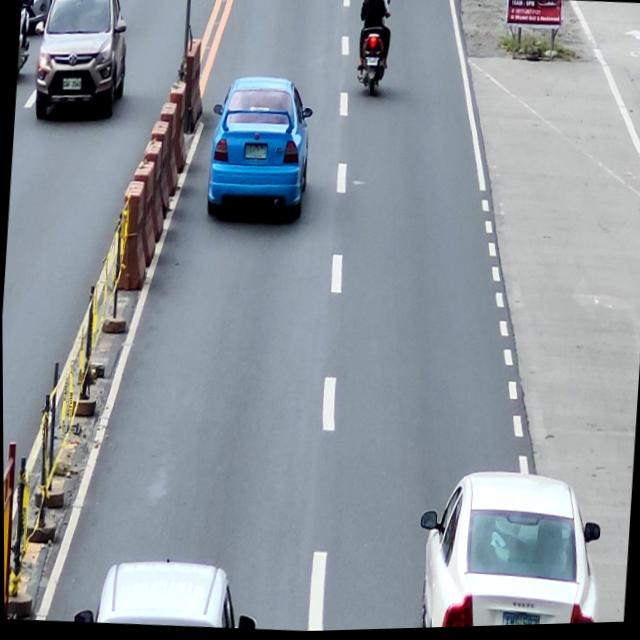Car: (411, 465, 607, 631), (204, 72, 315, 224), (72, 551, 259, 634), (30, 0, 131, 124), (20, 0, 55, 27)
License-Plate: (499, 612, 540, 628), (242, 142, 268, 163), (60, 76, 83, 93), (364, 57, 380, 69)
Motorcycle: (354, 0, 393, 99), (16, 0, 33, 82)
